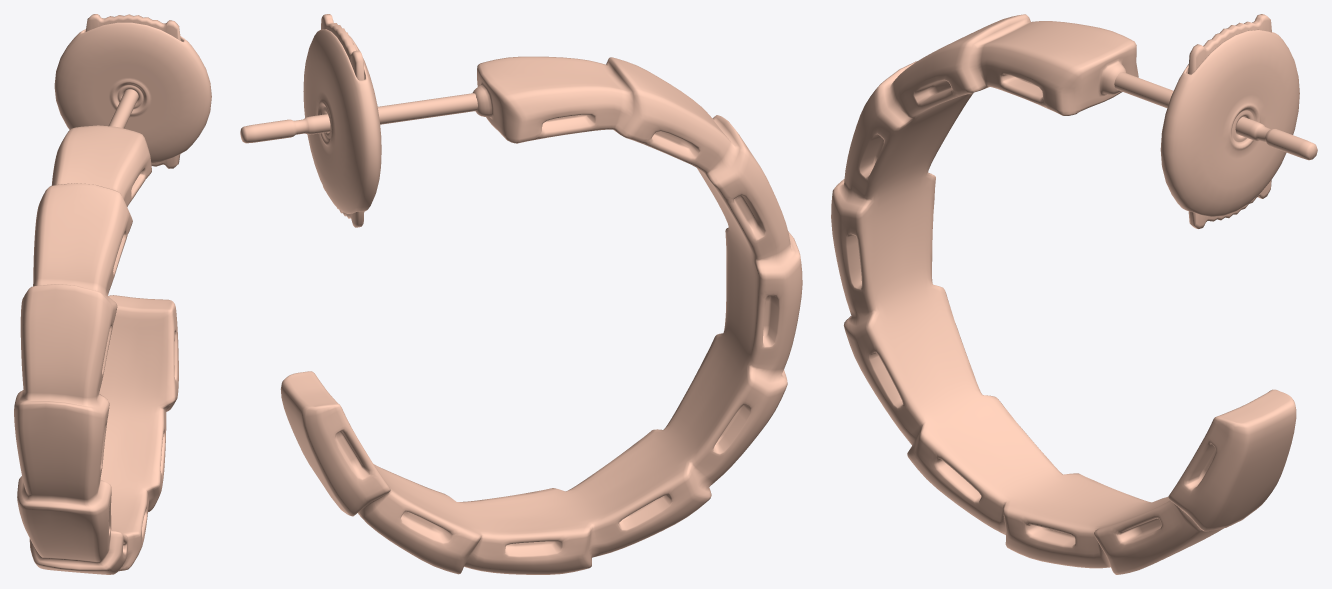
Rendered from Bvlgari_Earrings_Serpenti_Viper_Boucles_Doreilles.glb.
3 views of the same model, side by side, from view 1: azimuth 30°, elevation 25°; view 2: azimuth 150°, elevation 25°; view 3: azimuth 270°, elevation 25° (orthographic). The views are drawn at different scales.
Visible parts, largest first — view 1: corpo_low, fermo01_low, fermo02_low, stanghetta_low; view 2: corpo_low, fermo01_low, stanghetta_low, fermo02_low; view 3: corpo_low, fermo01_low, stanghetta_low, fermo02_low.
Part boxes in pixels (bbox=[...]): corpo_low: bbox=[14, 125, 178, 574]; fermo01_low: bbox=[54, 22, 211, 163]; fermo02_low: bbox=[85, 14, 180, 40]; stanghetta_low: bbox=[108, 89, 138, 128]; corpo_low: bbox=[280, 56, 802, 574]; fermo01_low: bbox=[303, 29, 381, 213]; stanghetta_low: bbox=[240, 93, 477, 143]; fermo02_low: bbox=[321, 14, 364, 80]; corpo_low: bbox=[831, 14, 1296, 574]; fermo01_low: bbox=[1160, 29, 1299, 216]; stanghetta_low: bbox=[1114, 72, 1317, 160]; fermo02_low: bbox=[1188, 14, 1271, 74].
Bounding box in the file's own units: 0.0155 × 0.0227 × 0.0173.
Materials: 1 (1 with a texture image).
